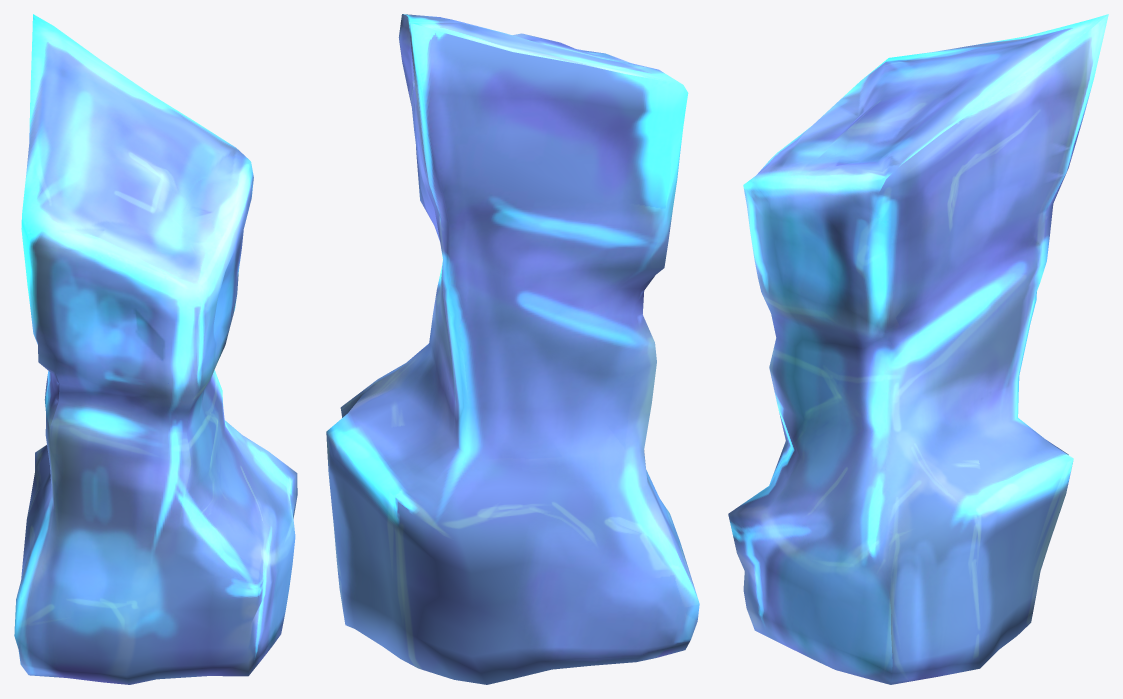
The model's file is congelaton.fbx.
3 views of the same model, side by side, from view 1: azimuth 30°, elevation 25°; view 2: azimuth 150°, elevation 25°; view 3: azimuth 270°, elevation 25° (orthographic). The views are drawn at different scales.
Parts seen in each view (by area): view 1: LP_0; view 2: LP_0; view 3: LP_0.
Boxes of the visible parts, box(x1,y1,x2,y2) form: LP_0: box(14, 14, 297, 684); LP_0: box(326, 14, 699, 684); LP_0: box(728, 14, 1108, 684).
Bounding box in the file's own units: 139 × 260 × 150.
Materials: 1 (1 with a texture image).
